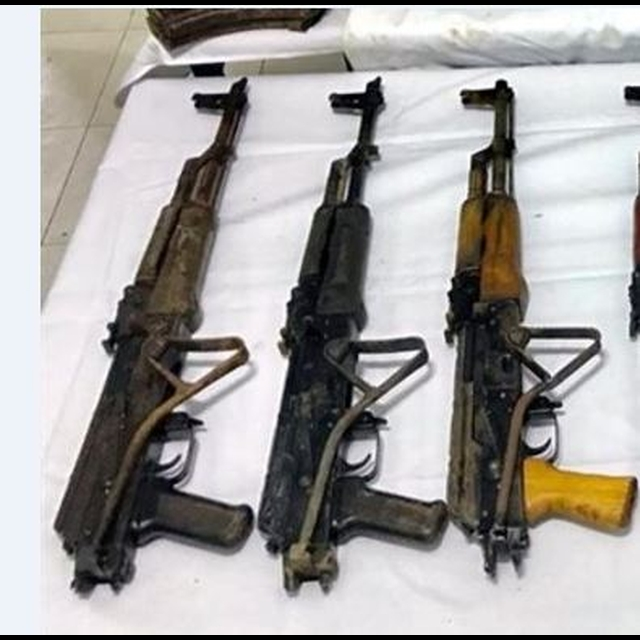AK47: (58, 71, 255, 591), (438, 63, 637, 563), (255, 80, 445, 582)
